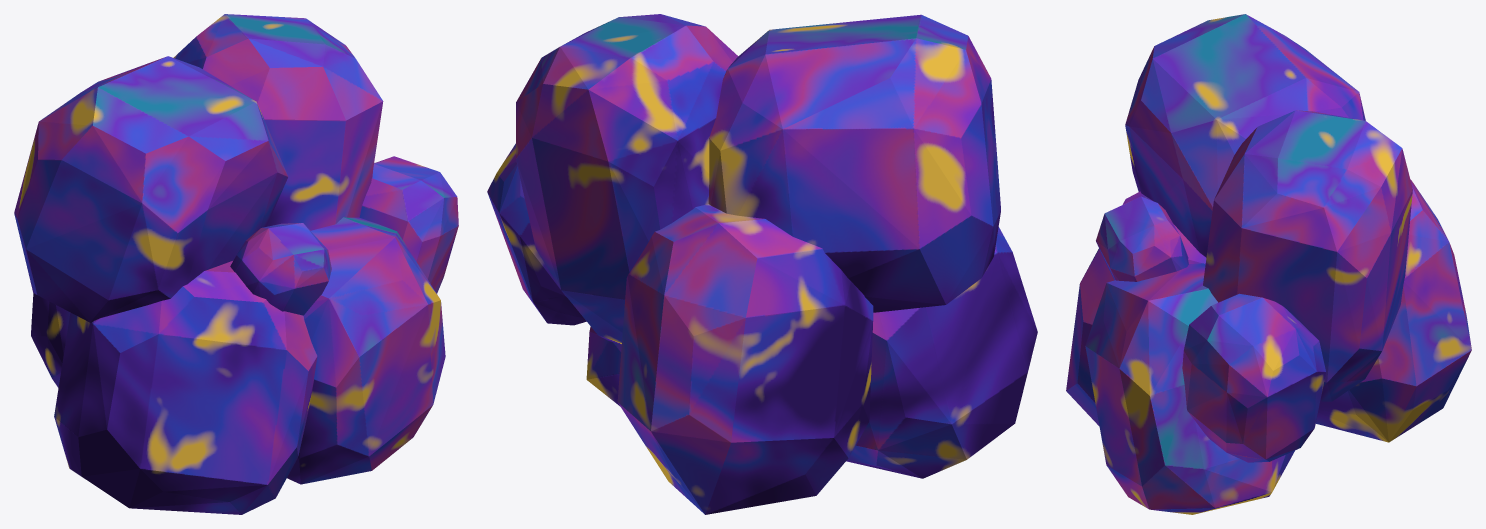
Rendered from Ore_GodsCore.fbx.
3 renders of one model, left to right at view 1: azimuth 30°, elevation 25°; view 2: azimuth 150°, elevation 25°; view 3: azimuth 270°, elevation 25°, orthographic. The views are drawn at different scales.
Visible parts, largest first — view 1: Ore_Crystal; view 2: Ore_Crystal; view 3: Ore_Crystal.
Part boxes in pixels (x1,y1,x2,y2): Ore_Crystal: (14,14,458,514); Ore_Crystal: (487,14,1037,514); Ore_Crystal: (1066,14,1471,514).
Size of the model in its own units: 2.25 by 2 by 1.87.
